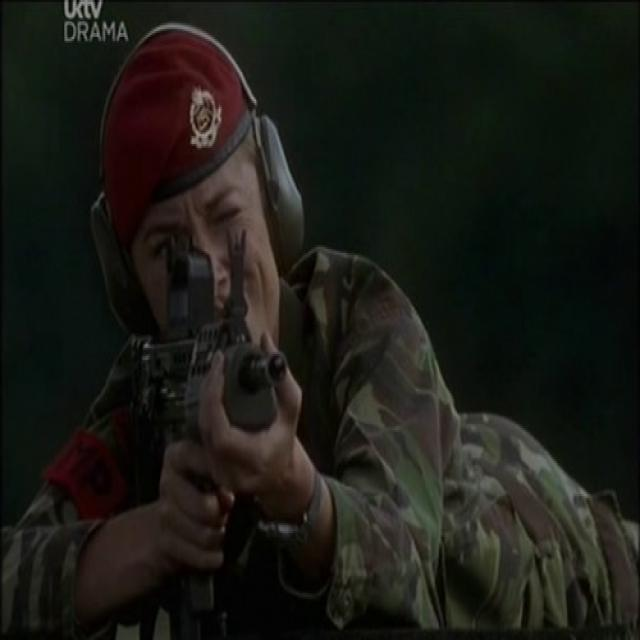rifle: (116, 251, 294, 482)
